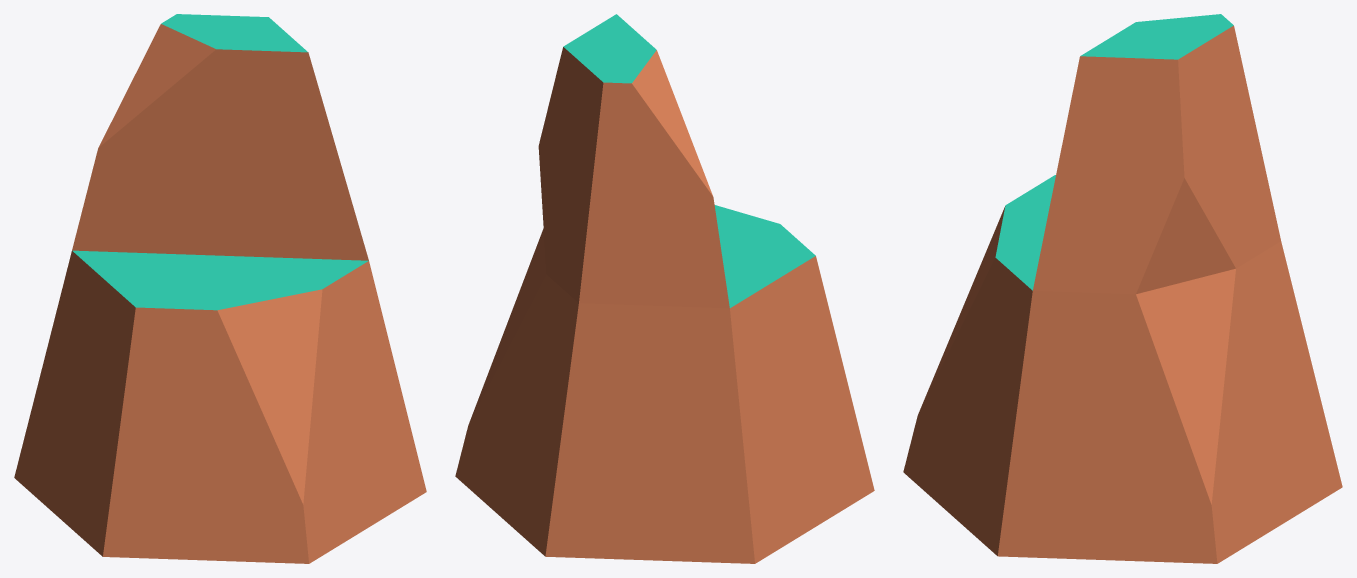
Rendered from rock_tallJ.fbx.
The picture shows the model from 3 angles, left to right: view 1: azimuth 30°, elevation 25°; view 2: azimuth 150°, elevation 25°; view 3: azimuth 270°, elevation 25°; orthographic projection. The views are drawn at different scales.
Visible parts, largest first — view 1: rock_tallJ; view 2: rock_tallJ; view 3: rock_tallJ.
Part boxes in pixels (x1,y1,x2,y2): rock_tallJ: (14, 14, 426, 563); rock_tallJ: (455, 14, 874, 563); rock_tallJ: (903, 14, 1342, 563).
Size of the model in its own units: 4.88 by 6.2 by 5.38.
